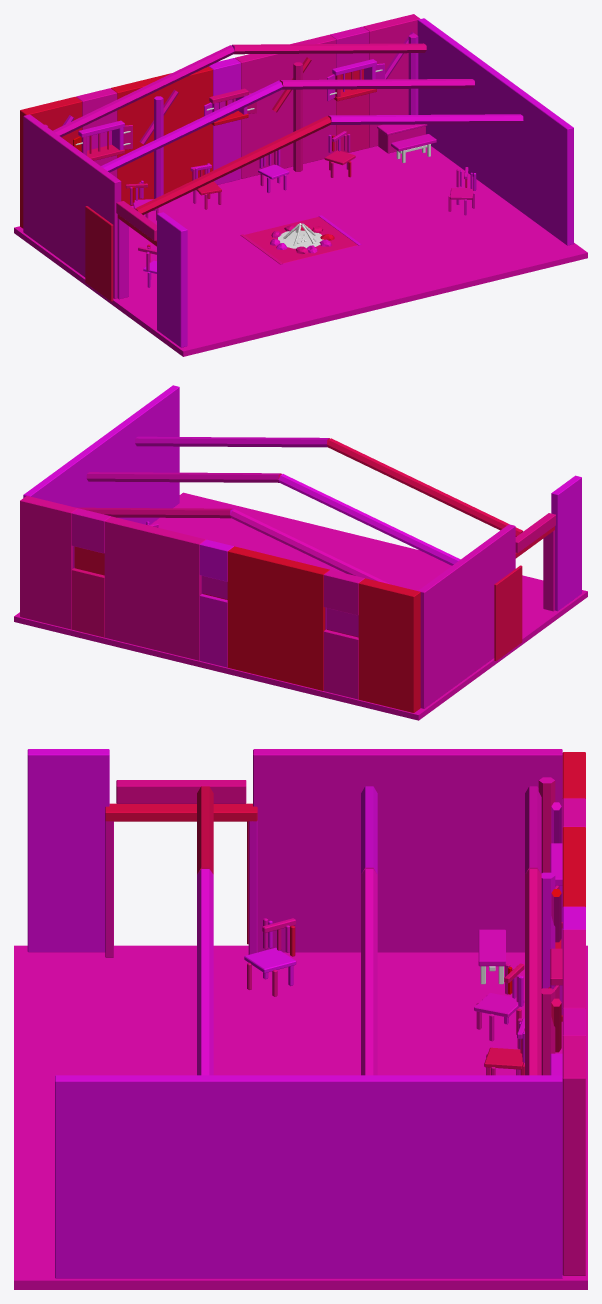
The model's file is court_chapter_01.glb.
The picture shows the model from 3 angles, top to bottom: view 1: azimuth 30°, elevation 25°; view 2: azimuth 150°, elevation 25°; view 3: azimuth 270°, elevation 25°; orthographic projection. The views are drawn at different scales.
Visible parts, largest first — view 1: Floor, WallRight, WallLeftRear, WallBackPier_2, WallBackPier_1, Rafters_2, Rafters_0, Rafters_1, WallLeftFront, WallBackPier_end, OpenDoorLeaf, WallBackPier_0 (+19 smaller); view 2: Floor, WallBackPier_1, WallBackPier_2, WallLeftRear, WallRight, WallBackPier_0, WallBackPier_end, Rafters_2, Rafters_1, WallLeftFront, Rafters_0, OpenDoorLeaf (+11 smaller); view 3: WallRight, Floor, WallLeftRear, WallLeftFront, WallBackPier_end, Rafters_1, Rafters_2, Rafters_0, DoorLintel, EntranceHeader, Chair_officials_2, WallBackPier_1 (+11 smaller).
Boxes of the visible parts, x1,y1,x2,y2 form: Floor: [14, 146, 587, 356]; WallRight: [417, 18, 573, 245]; WallLeftRear: [23, 114, 121, 298]; WallBackPier_2: [235, 34, 335, 178]; WallBackPier_1: [111, 66, 212, 205]; Rafters_2: [135, 114, 523, 214]; Rafters_0: [52, 43, 426, 137]; Rafters_1: [101, 79, 474, 172]; WallLeftFront: [157, 212, 187, 347]; WallBackPier_end: [363, 14, 420, 147]; OpenDoorLeaf: [85, 206, 113, 301]; WallBackPier_0: [20, 96, 82, 228]; Floor: [14, 492, 587, 720]; WallBackPier_1: [227, 546, 329, 690]; WallBackPier_2: [104, 516, 205, 660]; WallLeftRear: [418, 524, 515, 708]; WallRight: [23, 385, 179, 524]; WallBackPier_0: [358, 578, 420, 712]; WallBackPier_end: [20, 496, 77, 629]; Rafters_2: [135, 436, 523, 536]; Rafters_1: [86, 472, 460, 565]; WallLeftFront: [551, 475, 581, 611]; Rafters_0: [77, 507, 390, 584]; OpenDoorLeaf: [494, 565, 522, 660]; WallRight: [55, 1075, 562, 1278]; Floor: [14, 945, 587, 1289]; WallLeftRear: [253, 749, 562, 952]; WallLeftFront: [27, 749, 109, 952]; WallBackPier_end: [562, 1035, 585, 1275]; Rafters_1: [361, 786, 377, 1075]; Rafters_2: [197, 786, 213, 1075]; Rafters_0: [525, 786, 541, 1075]; DoorLintel: [116, 780, 246, 803]; EntranceHeader: [105, 803, 257, 821]; Chair_officials_2: [244, 918, 296, 996]; WallBackPier_1: [562, 827, 585, 906].
Size of the model in its own units: 11.7 by 4.1 by 8.4.
